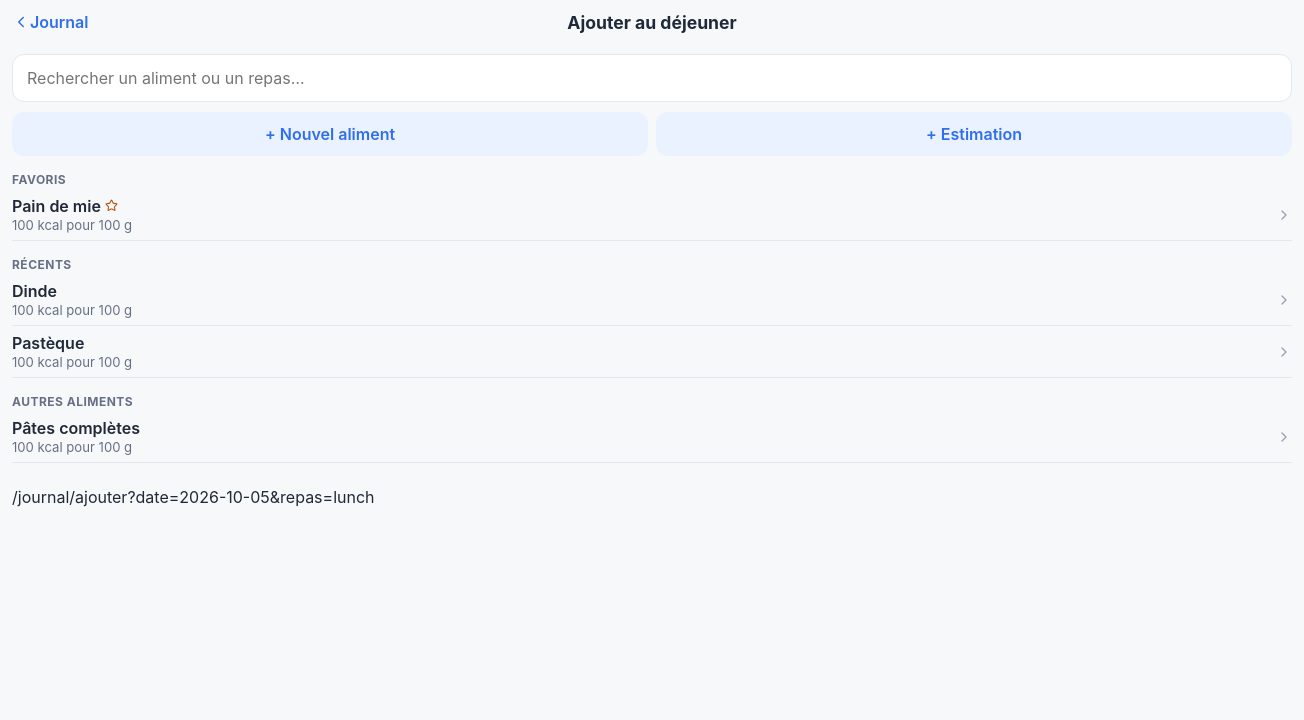
it: écran Ajouter › Favoris, Récents (repas d'abord, sans doublon), Autres aliments ; recherche sans accents, favoris d'abord
This screenshot has width=1304, height=720.
Expected: the element "Favoris" is shown, [12,166,1292,241]
Type "PA" into the search field labelled "Rechercher un aliment ou un repas" at point(652, 78), box [12,54,1292,102]
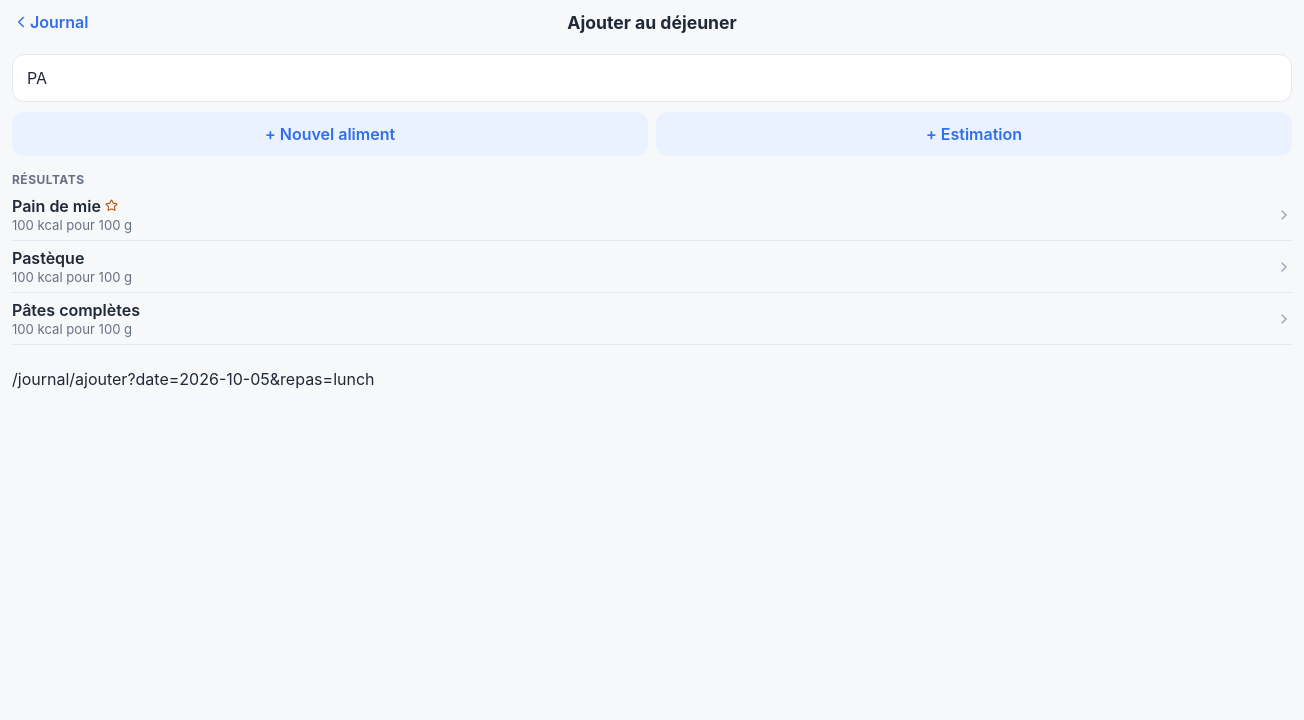
Expected: the heading "Favoris" is gone
Replace the text in the search field named "Rechercher un aliment ou un repas" with "quinoa" at point(652, 78), box [12,54,1292,102]
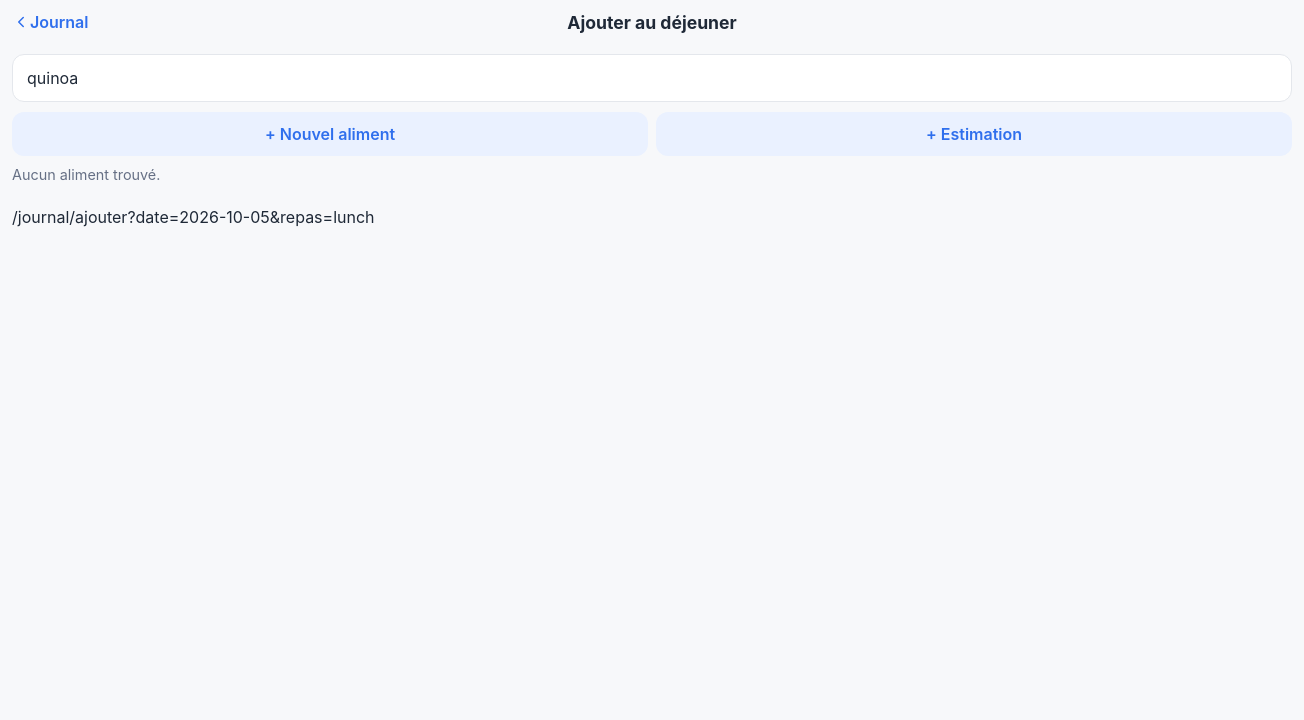
Expected: the text "Aucun aliment trouvé." is shown, [12,166,160,183]
